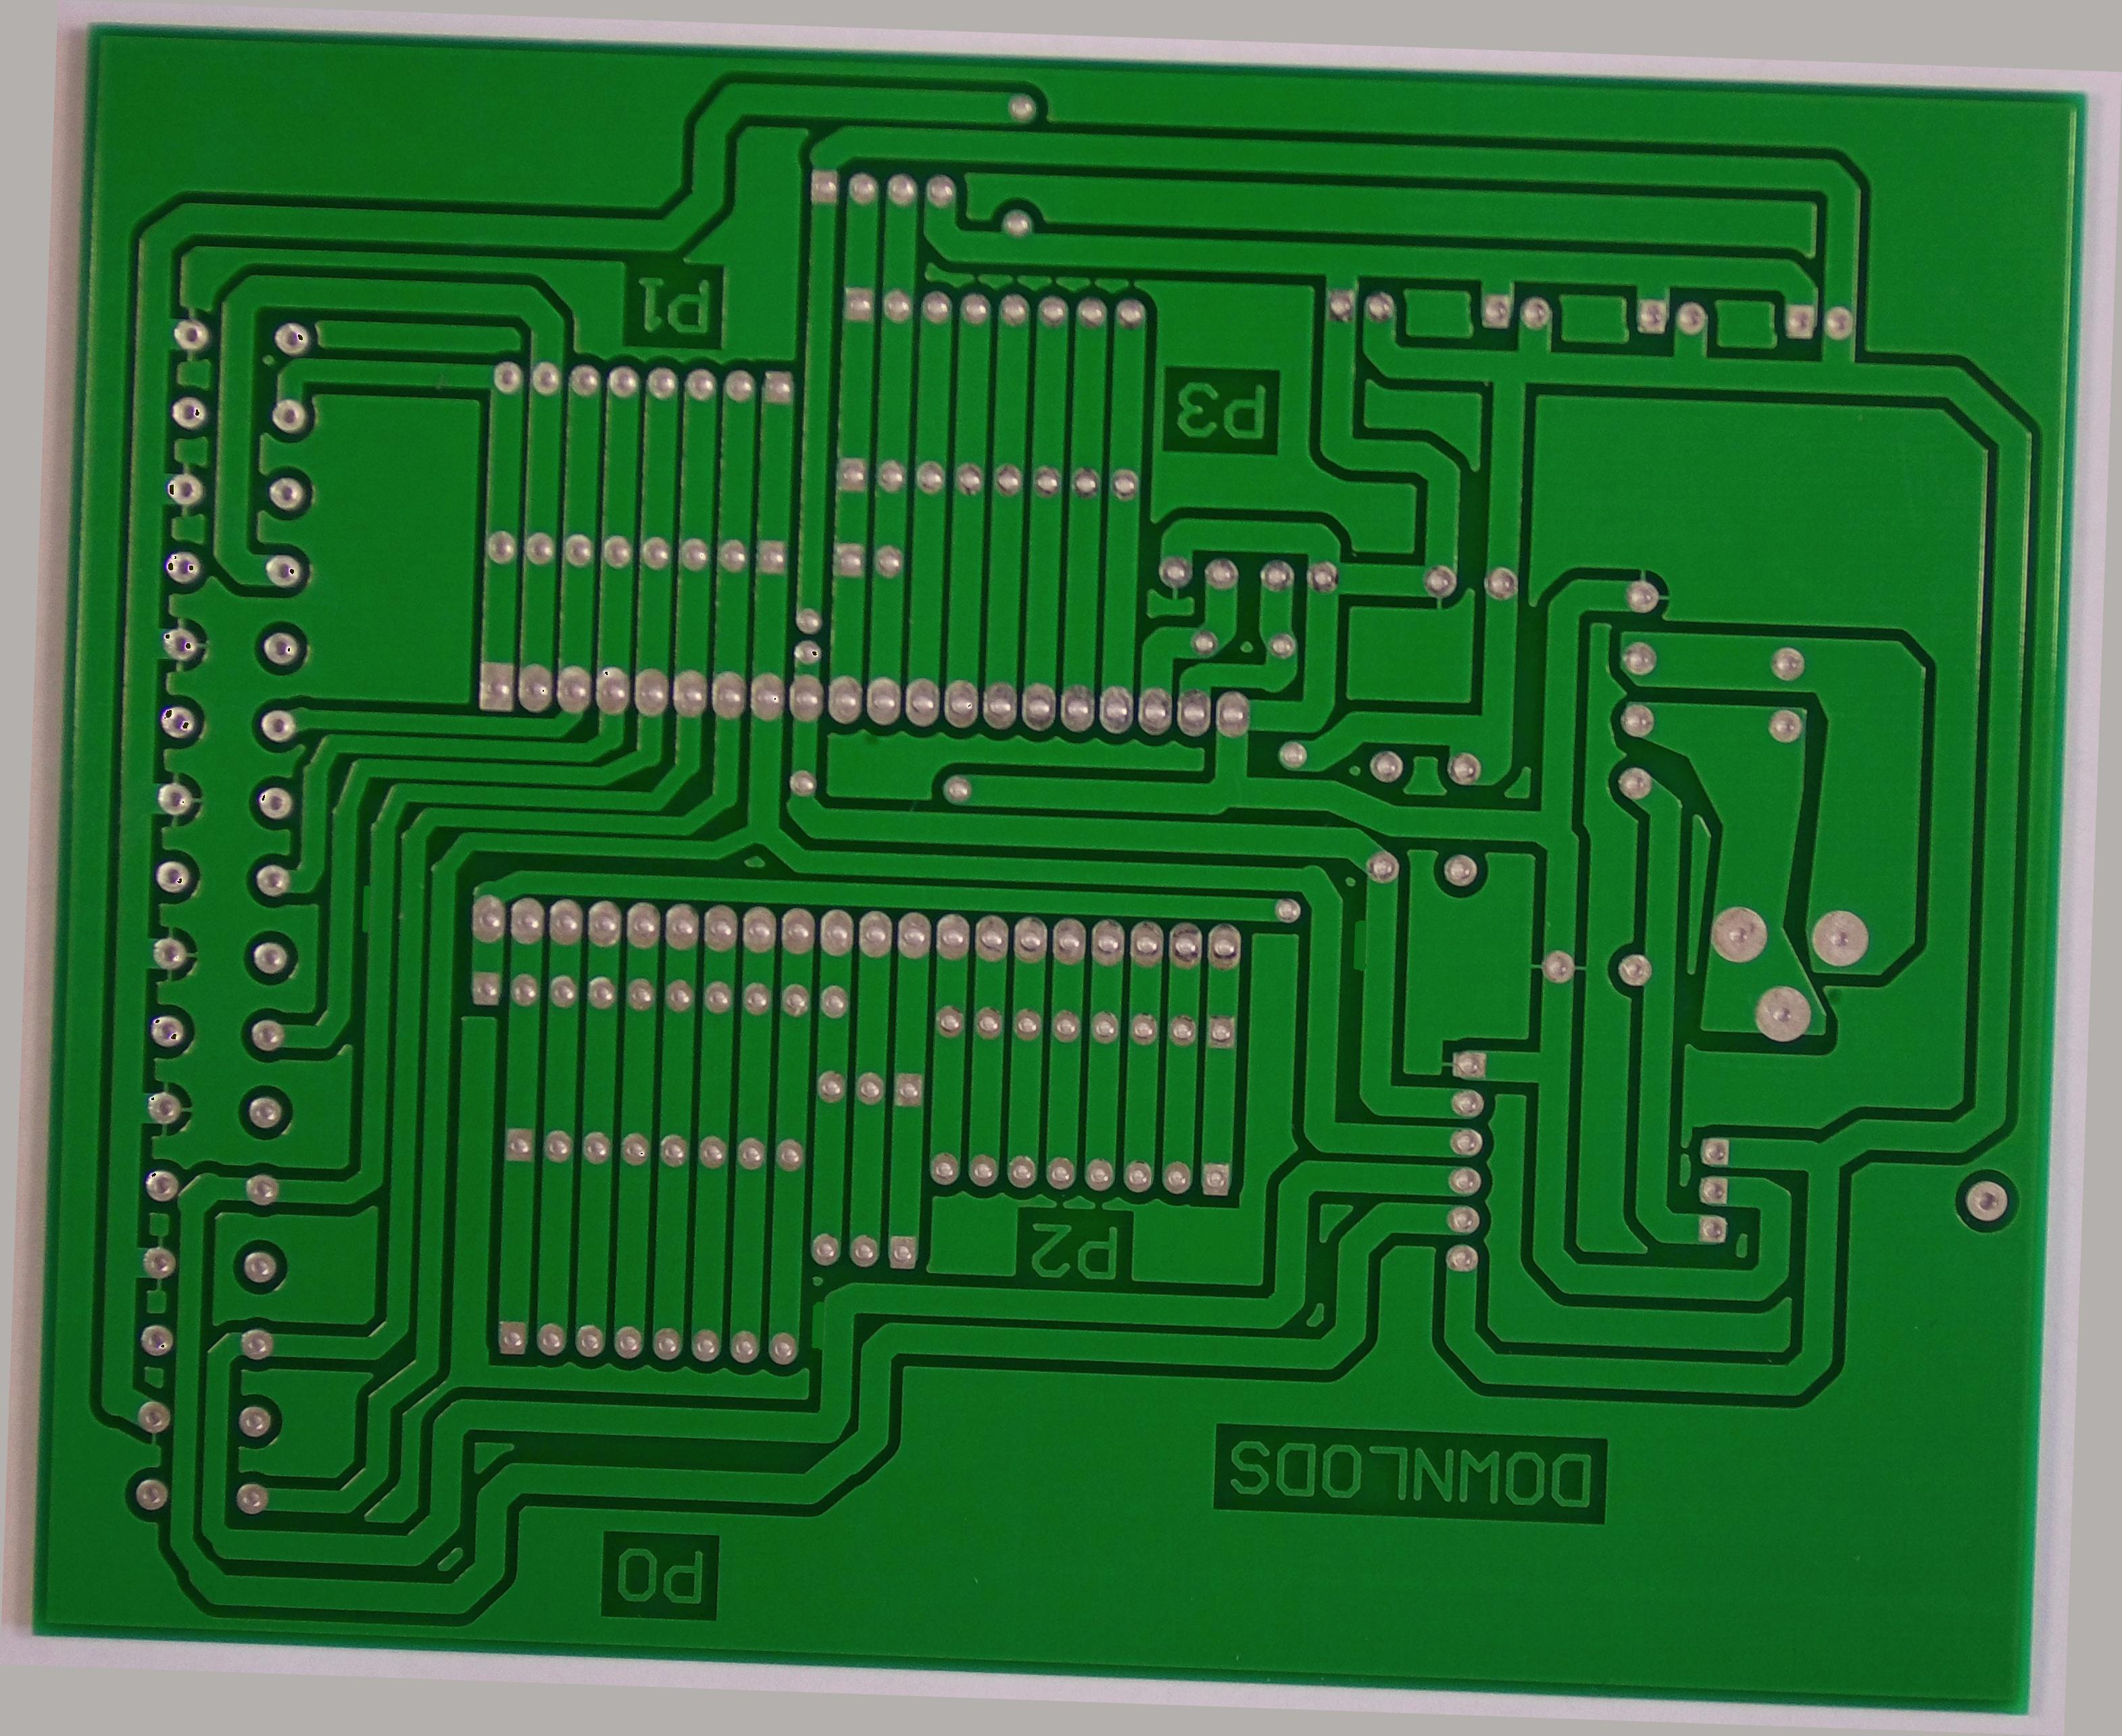spur: (1345, 904, 1376, 975), (802, 1292, 837, 1354), (356, 871, 386, 938)
